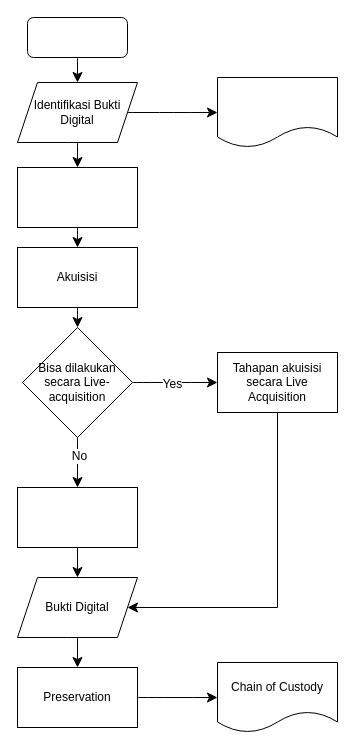
The diagram is 355 pixels wide and 750 high, and some of its shapes have lost their labels. Each missing label, with the centre of its shape:
"Log activity investigasi forensik digital" belongs at point 277,112.
"Start" belongs at point 77,37.
"Tahapan akuisisi secara Dead/Offline Acquisition" belongs at point 77,517.
"Tahapan Pengambilan Bukti Digital" belongs at point 77,197.
